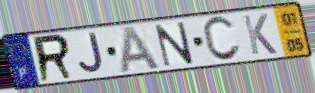A: (119, 24, 163, 76)
C: (200, 14, 243, 64)
J: (77, 31, 107, 76)
K: (240, 12, 279, 57)
N: (153, 20, 196, 69)
R: (32, 32, 77, 85)
